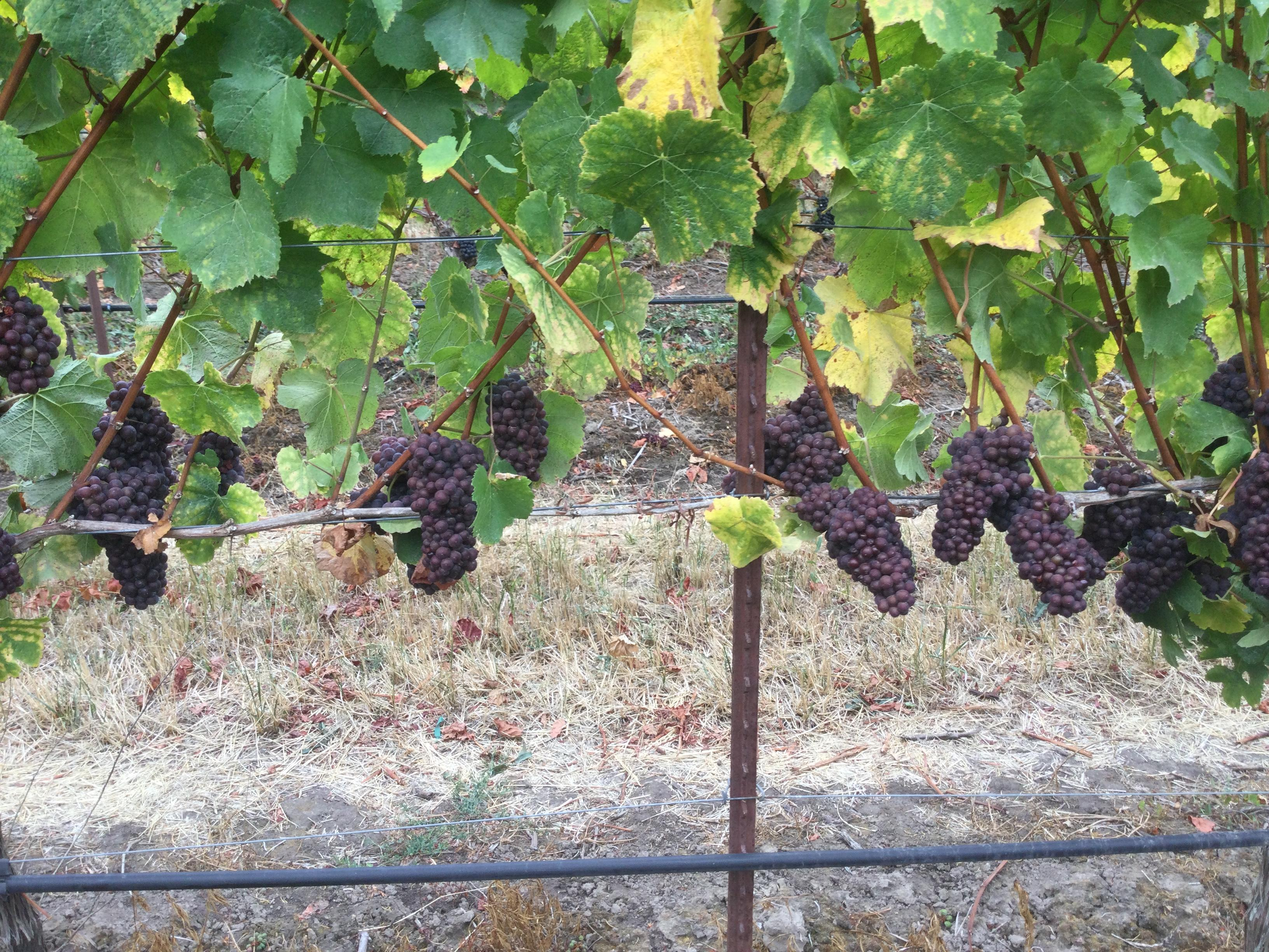leaf: (851, 51, 1025, 219), (581, 108, 759, 261), (26, 123, 166, 256), (210, 6, 311, 182), (275, 105, 400, 228), (161, 164, 280, 290), (23, 0, 185, 82), (0, 361, 110, 478), (813, 275, 912, 405), (520, 79, 611, 219), (617, 0, 723, 117), (217, 223, 328, 333), (833, 188, 930, 307), (726, 187, 818, 309), (499, 242, 598, 354), (1017, 55, 1124, 153), (350, 52, 462, 144), (740, 45, 813, 185), (565, 263, 654, 374), (146, 363, 262, 442), (825, 304, 912, 405), (941, 246, 1019, 358), (163, 4, 243, 112), (762, 0, 839, 112), (521, 79, 593, 197), (276, 359, 365, 453), (1128, 202, 1210, 304), (848, 392, 933, 489), (301, 271, 384, 370), (912, 197, 1059, 252), (414, 0, 529, 70), (152, 293, 244, 379), (131, 93, 209, 187), (869, 0, 999, 52), (1135, 267, 1205, 356), (171, 462, 267, 526), (420, 257, 487, 343), (455, 115, 518, 206), (801, 82, 861, 175), (704, 496, 782, 567), (1161, 114, 1233, 187), (309, 224, 393, 286), (0, 122, 41, 245), (1028, 410, 1089, 490), (472, 466, 533, 544), (1130, 26, 1187, 107), (411, 175, 488, 233), (19, 535, 101, 589), (371, 5, 439, 70), (538, 390, 584, 482), (989, 325, 1040, 406), (875, 20, 943, 79), (1173, 399, 1248, 452), (276, 443, 348, 498), (1005, 294, 1068, 355), (516, 190, 568, 259), (547, 348, 614, 399), (1105, 160, 1161, 216), (0, 617, 48, 681), (1214, 62, 1268, 115), (474, 49, 532, 98), (377, 282, 413, 355), (355, 109, 413, 154), (288, 0, 349, 37), (26, 116, 82, 154), (1138, 0, 1210, 24), (360, 369, 384, 430), (340, 442, 369, 491), (371, 0, 402, 29), (44, 474, 71, 505), (40, 158, 66, 187), (849, 37, 869, 61), (335, 77, 356, 96), (23, 490, 37, 506), (395, 242, 410, 255), (579, 266, 587, 270), (817, 345, 826, 348), (244, 536, 250, 540), (283, 239, 287, 244), (612, 103, 615, 108), (1247, 443, 1249, 449), (578, 303, 580, 306), (782, 103, 783, 107), (786, 60, 787, 64), (432, 146, 434, 147), (301, 223, 302, 224), (1072, 51, 1073, 52), (634, 374, 637, 374)
